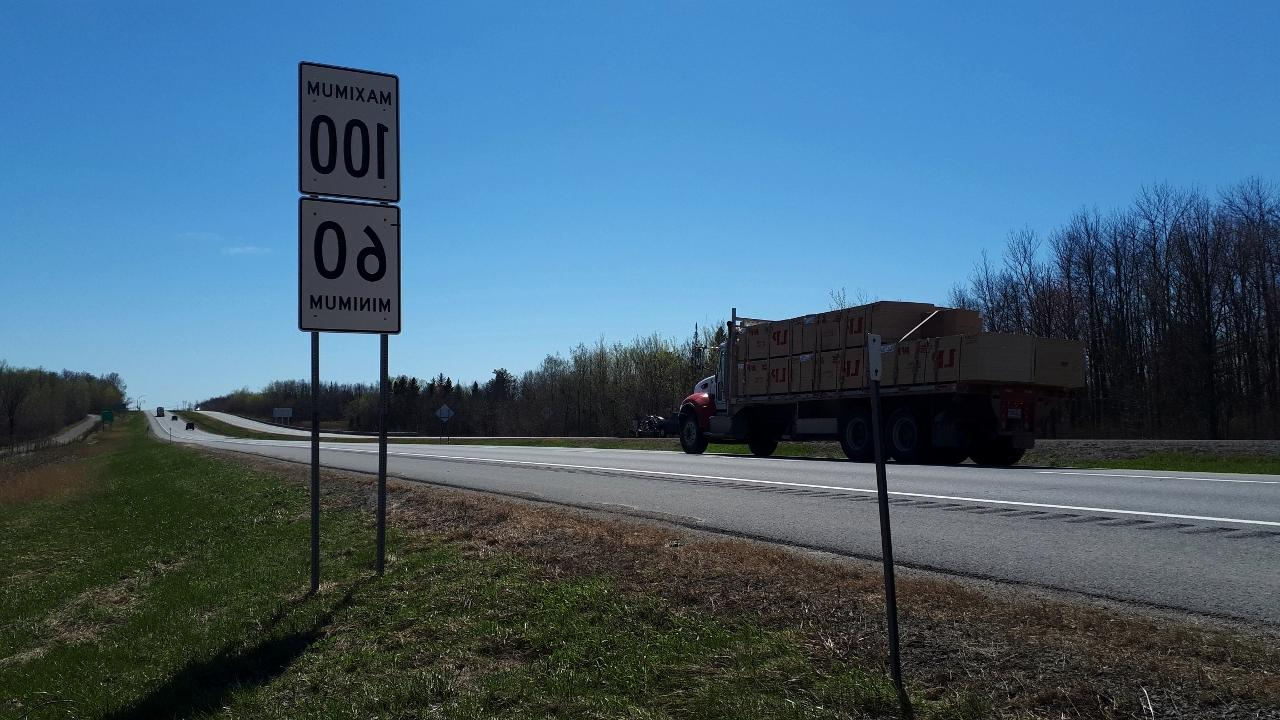speed limit sign: (295, 59, 406, 198), (292, 196, 404, 331)
